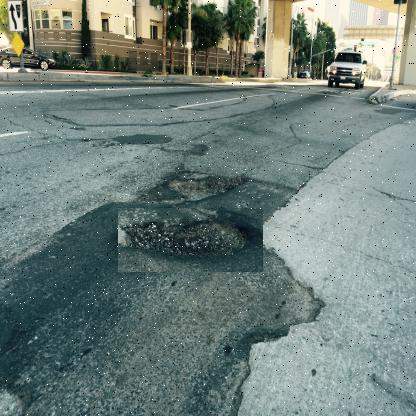pothole: (117, 208, 263, 273), (131, 163, 255, 205)
